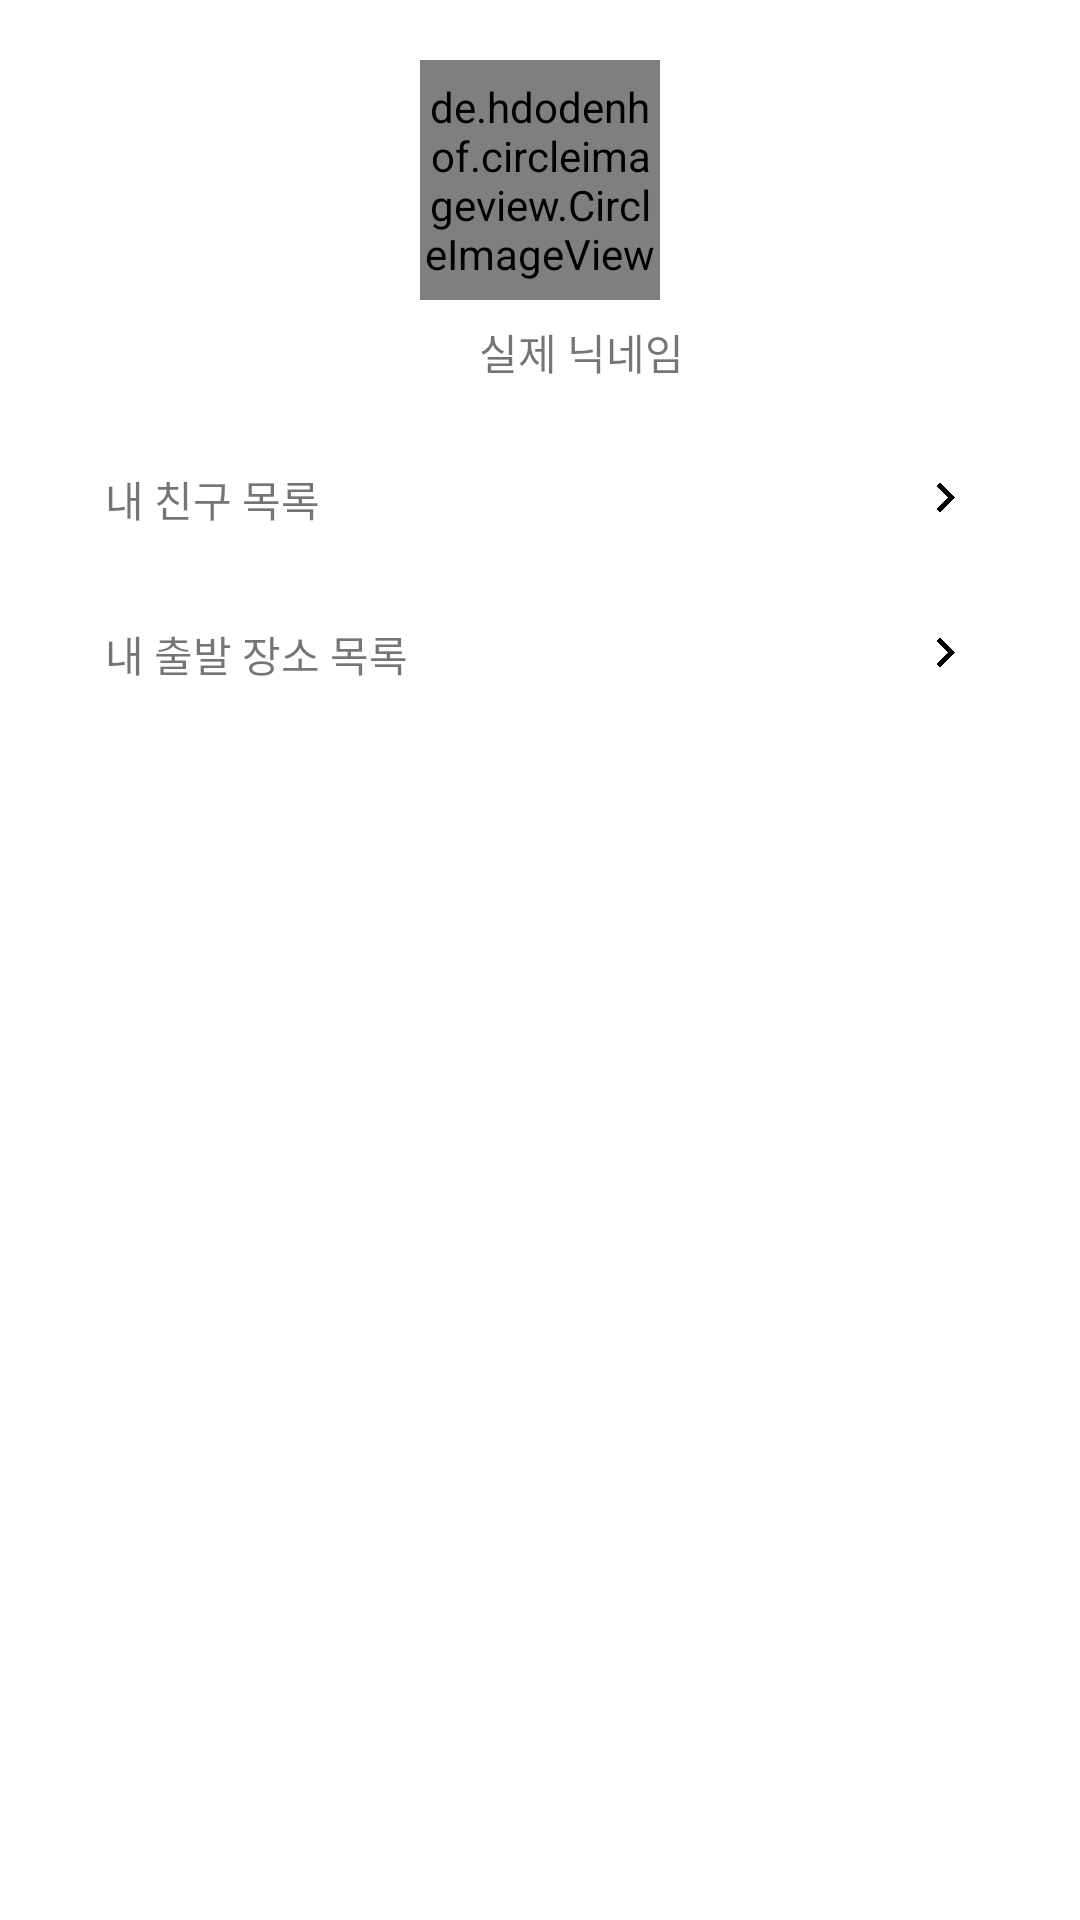

Locate icon controls on the screen. Image size 1080w x 1920h, boxes as [left=x1, top=y1, right=x2, bottom=y2].
arrow right: [left=937, top=483, right=955, bottom=512], [left=937, top=638, right=955, bottom=667]
